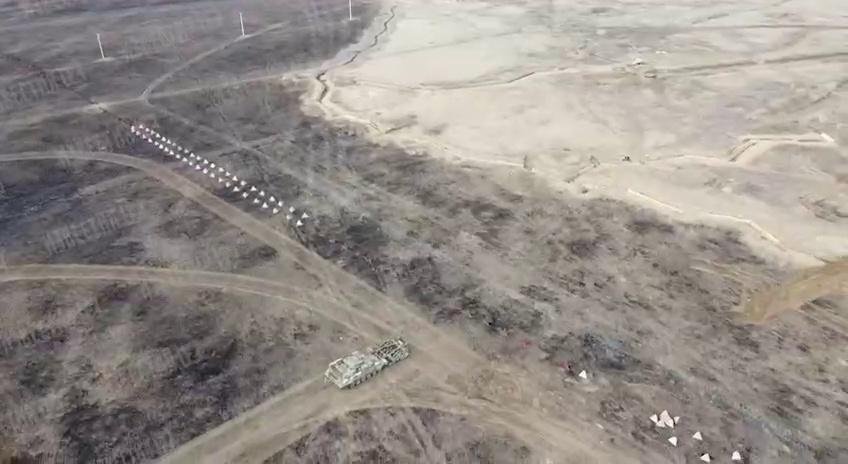tank: (325, 336, 408, 391)
